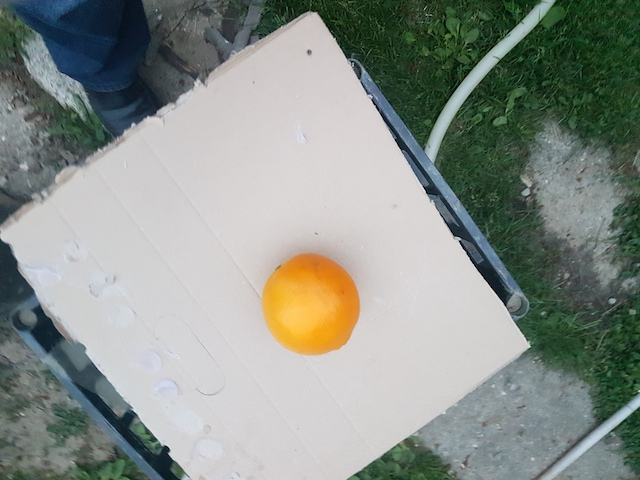orange: (262, 253, 362, 357)
